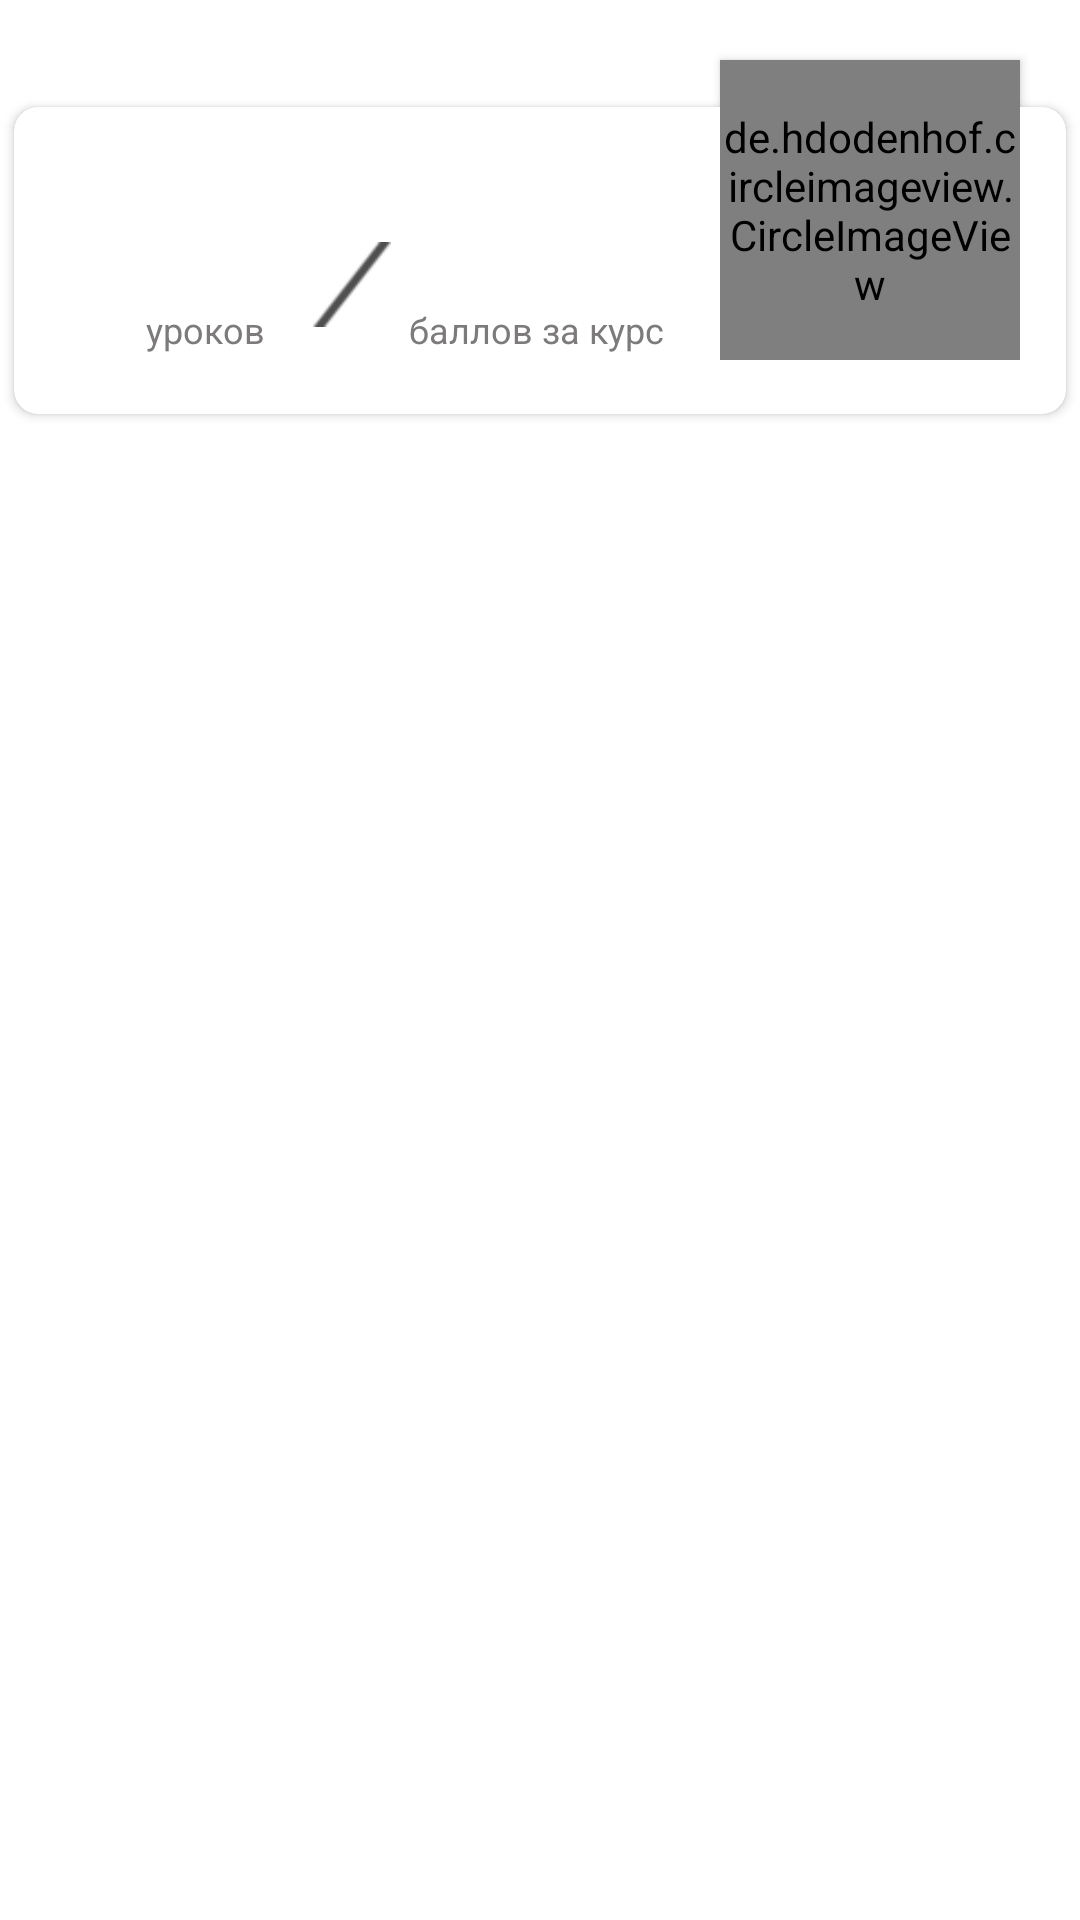

Where icons sit on this 1080 × 1920 app screen, as box=[x1, y1, x2, y2]:
split: box=[313, 242, 391, 327]
